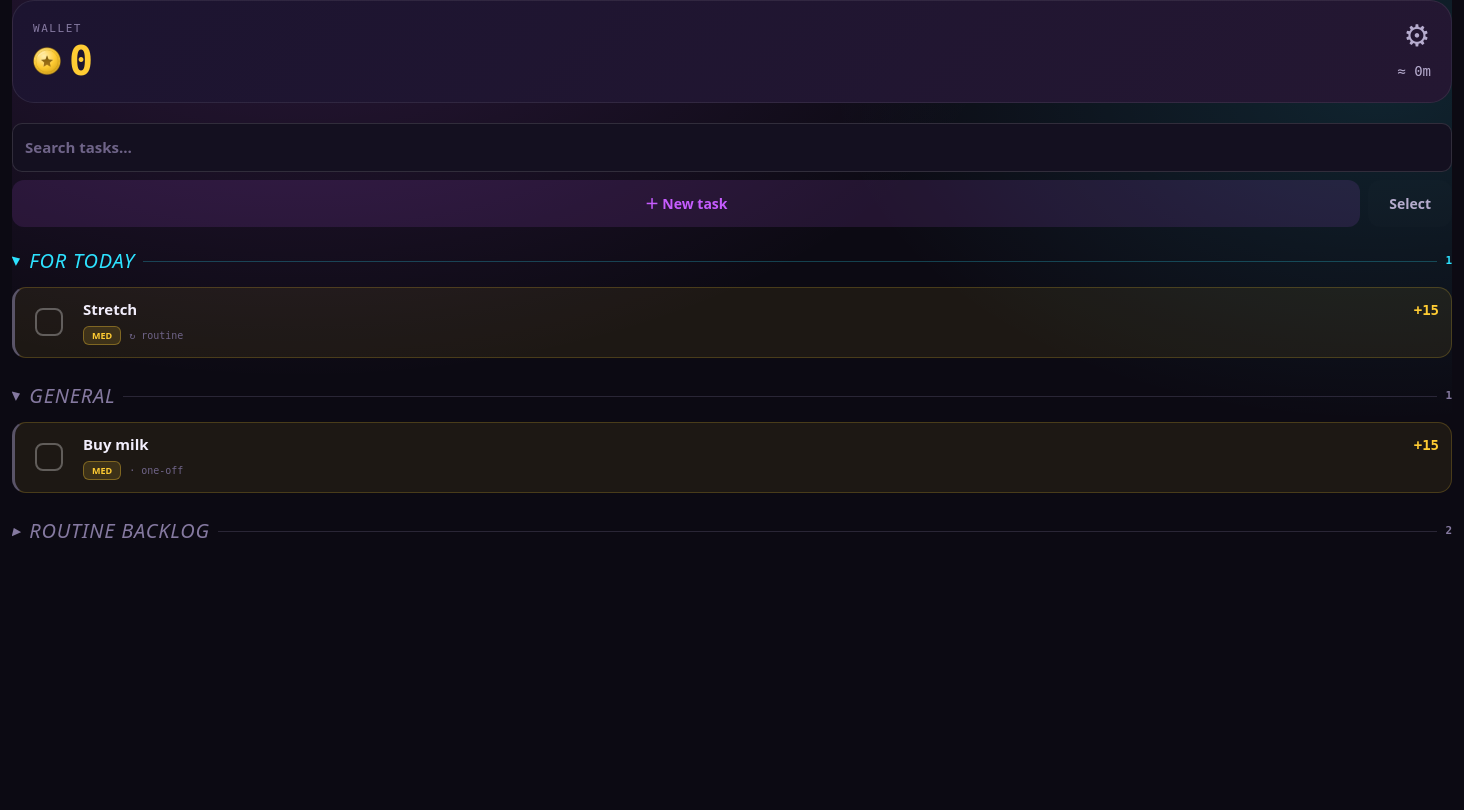
Scenario: leaving the mode › drops the selection, so it cannot be reused by accident
Expected: the button "Buy milk" is shown, [83,435,1402,453]
Click the button "▶ Routine backlog". click: coordinates (111, 531)
box: [12,509,210,553]
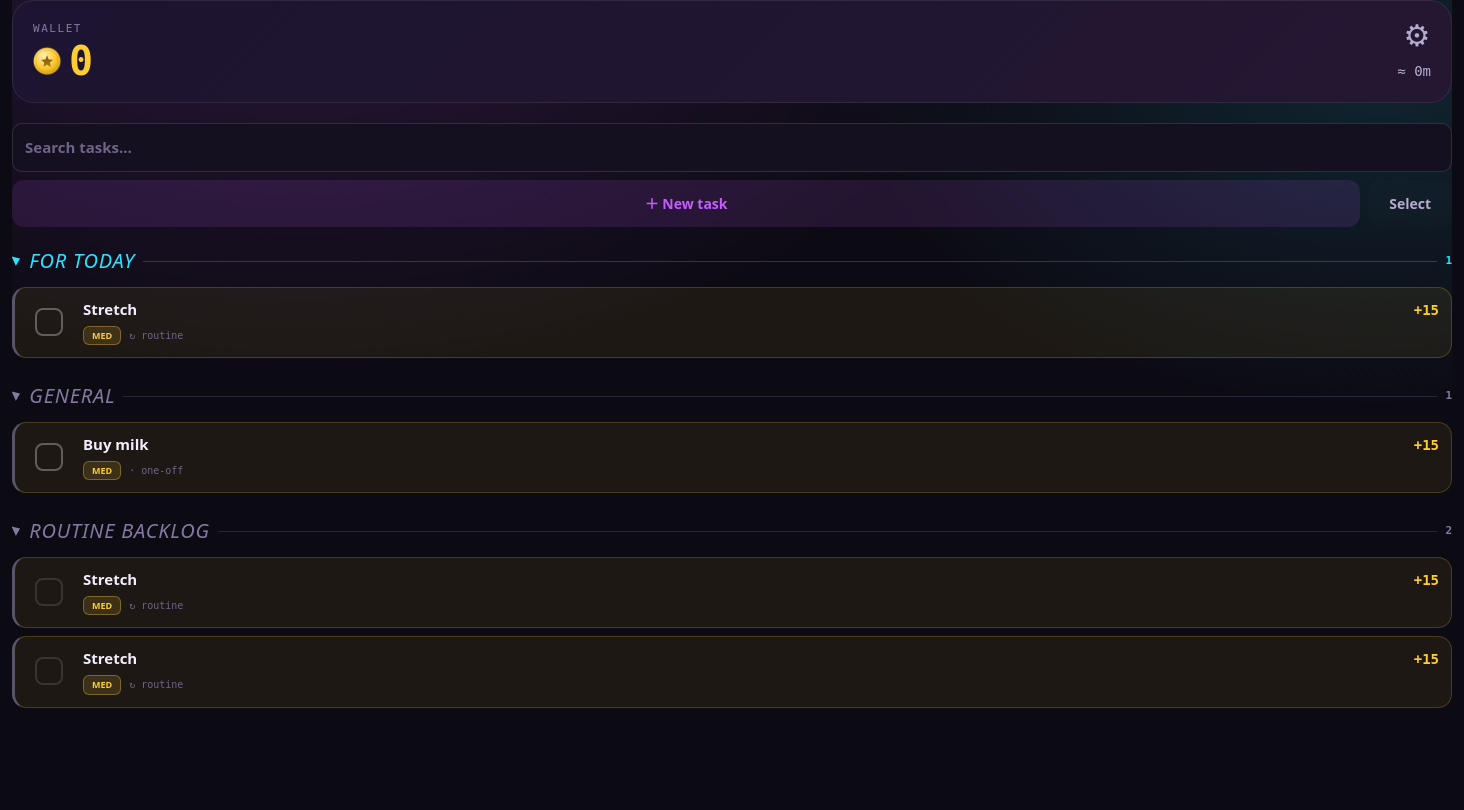
Click the button "Select". click: coordinates (1410, 204)
box: [1368,180,1452,227]
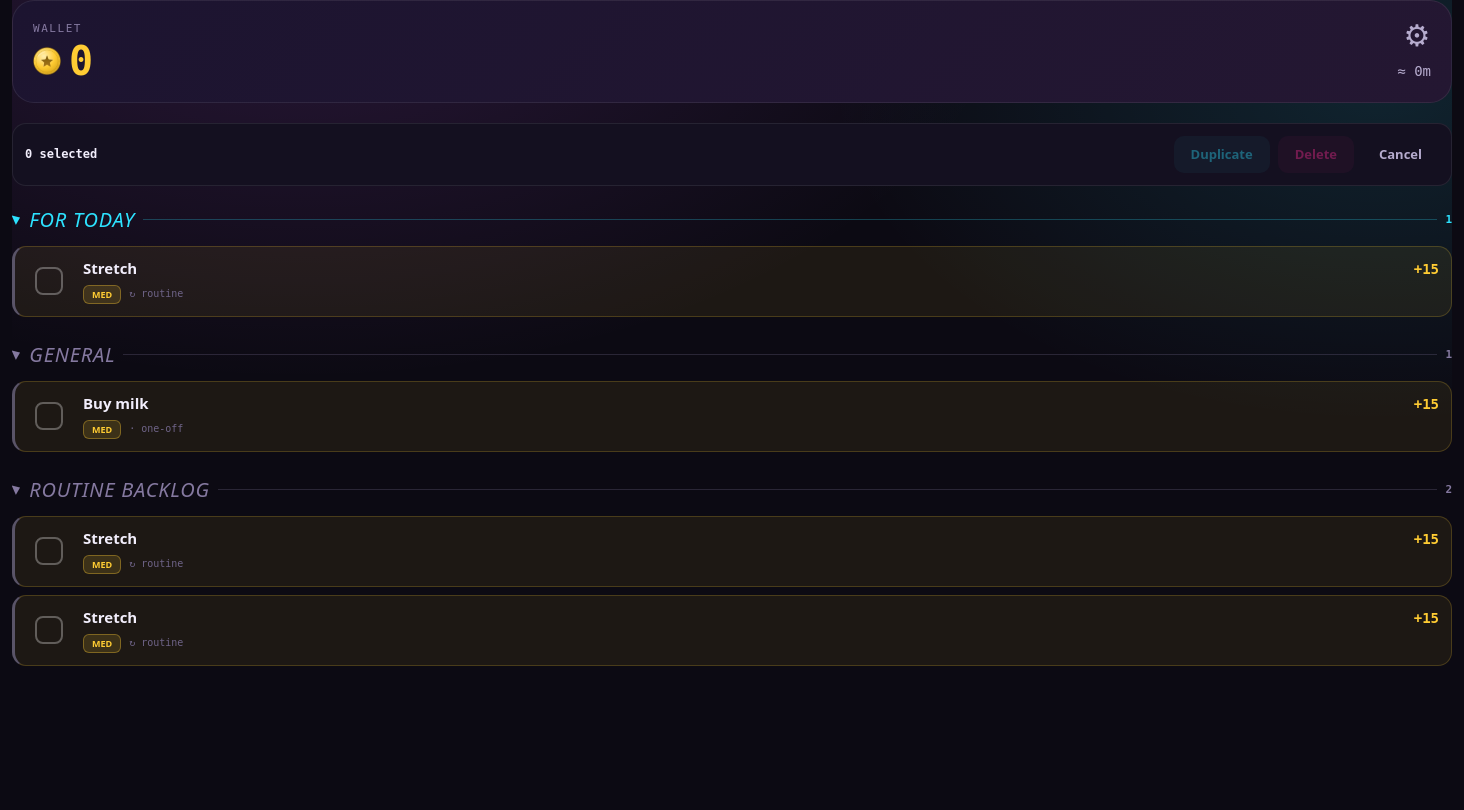
Click the checkbox named "Select Buy milk". click: coordinates (49, 416)
box: [35,402,63,430]
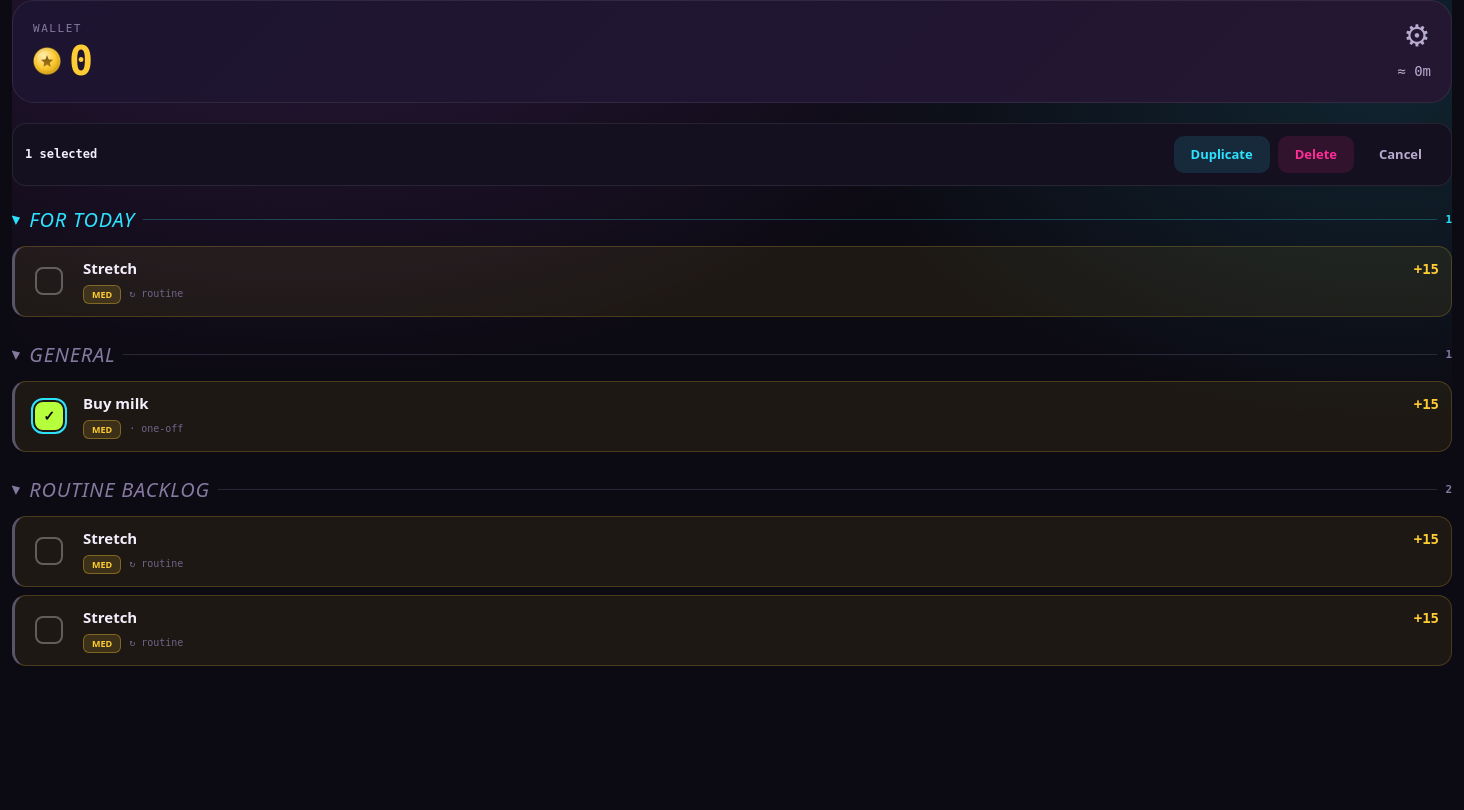
Now the text "1 selected" is shown, box [25,147,97,161]
Click the button "Cancel". click: coordinates (1400, 154)
box: [1362,136,1439,173]
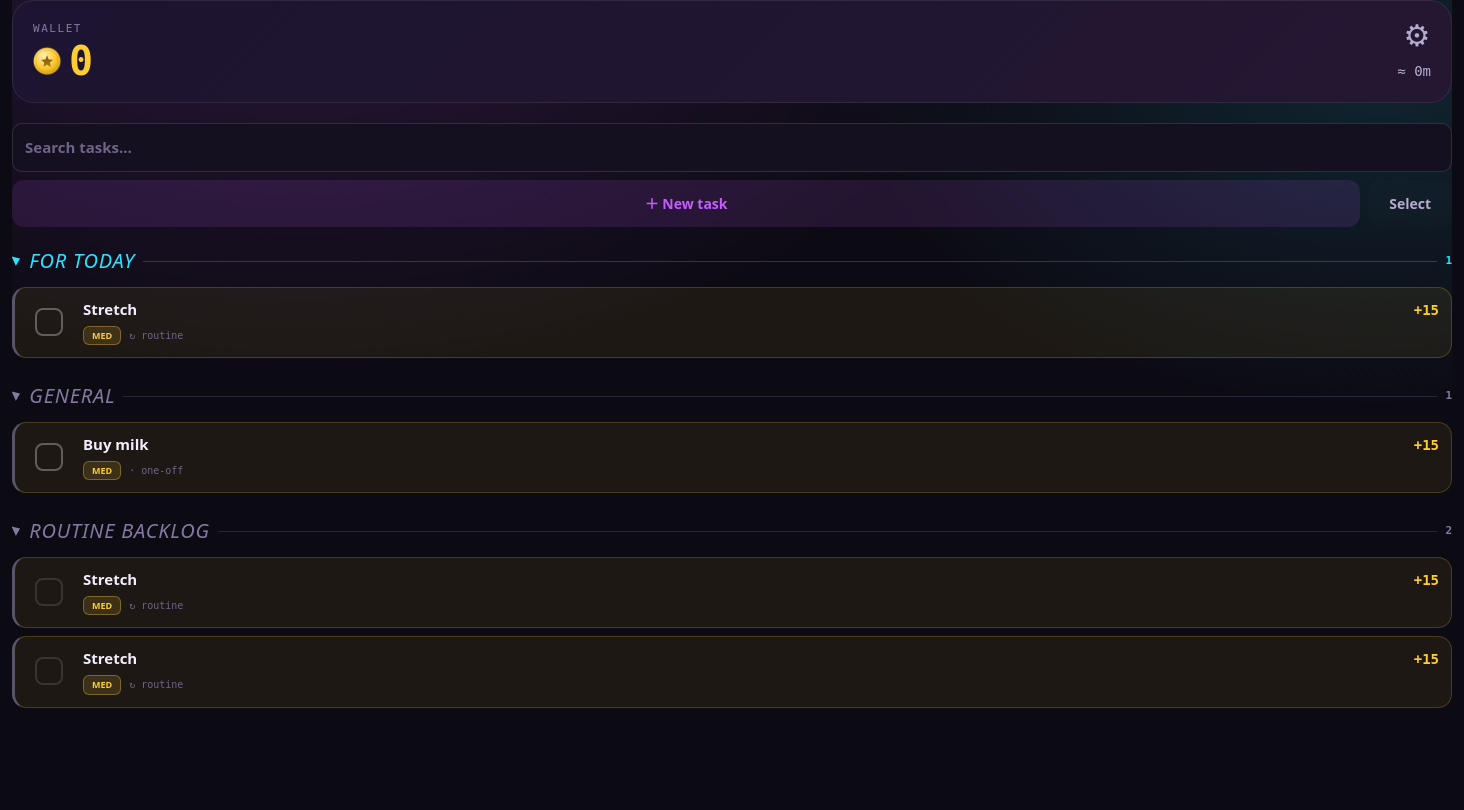
Click the button "Select". click: coordinates (1410, 204)
box: [1368,180,1452,227]
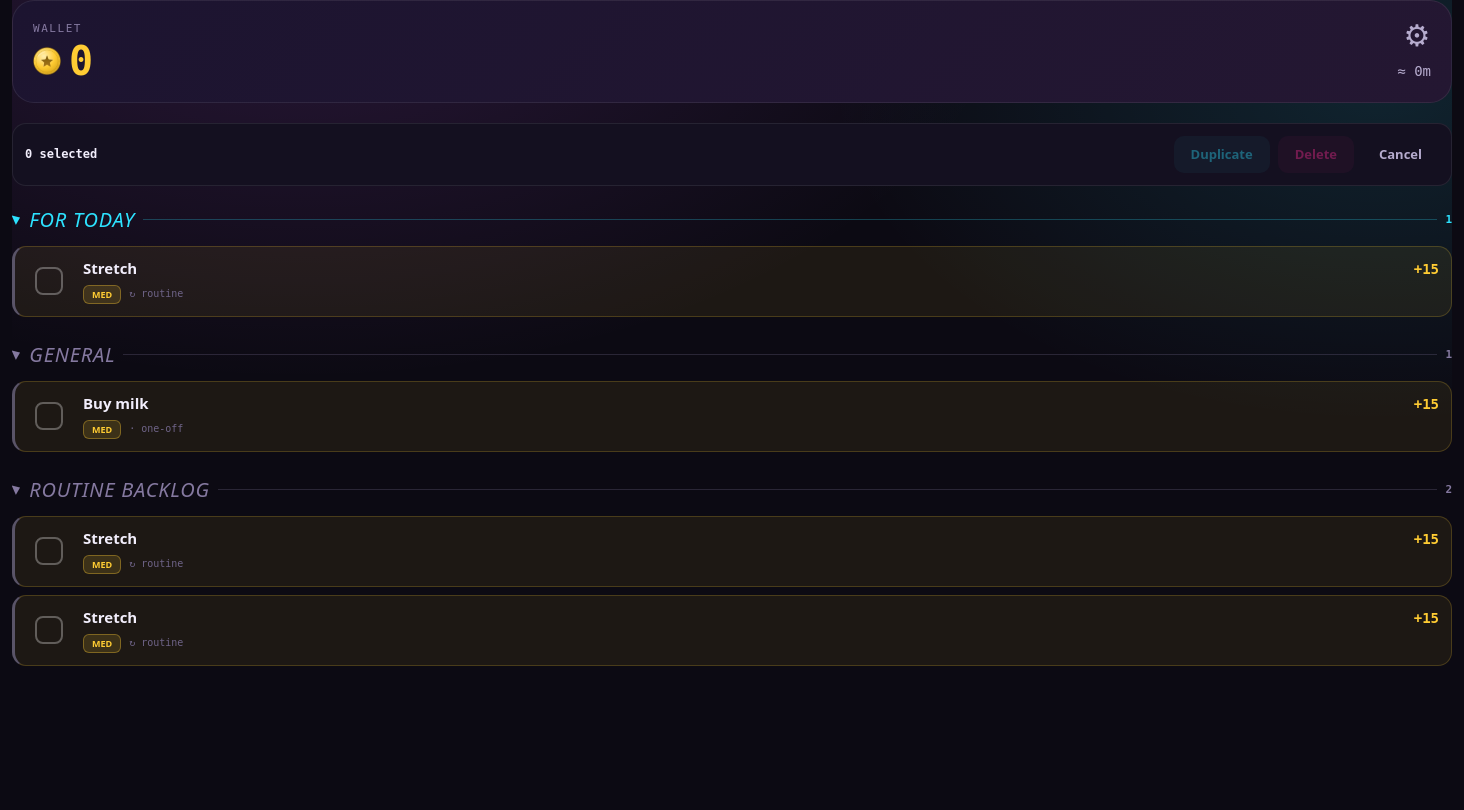
Now the text "0 selected" is shown, box [25,147,97,161]
